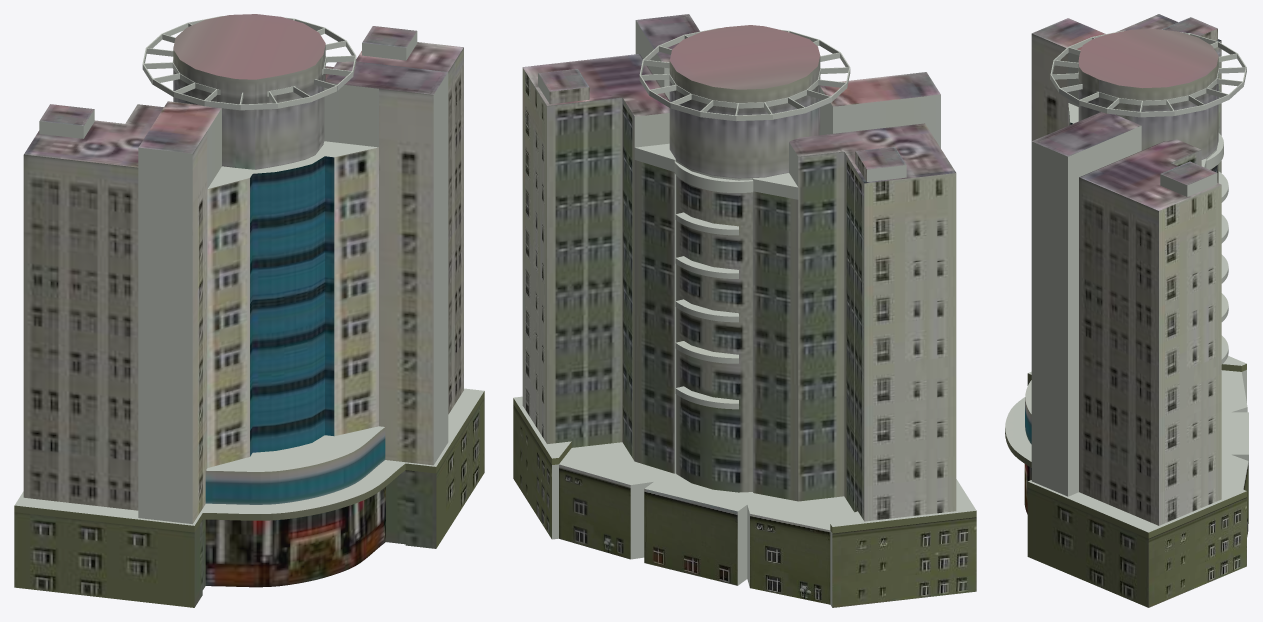
3 views of the same model, side by side, from view 1: azimuth 30°, elevation 25°; view 2: azimuth 150°, elevation 25°; view 3: azimuth 270°, elevation 25° (orthographic). The views are drawn at different scales.
Parts seen in each view (by area): view 1: 5ff536919ed19823c2a9ba71; view 2: 5ff536919ed19823c2a9ba71; view 3: 5ff536919ed19823c2a9ba71.
Boxes of the visible parts, left/top/right/bottom form: 5ff536919ed19823c2a9ba71: left=14, top=14, right=484, bottom=607; 5ff536919ed19823c2a9ba71: left=513, top=14, right=976, bottom=607; 5ff536919ed19823c2a9ba71: left=1005, top=14, right=1248, bottom=607.
Size of the model in its own units: 43.48 by 42.78 by 21.28.
Materials: 1 (1 with a texture image).
